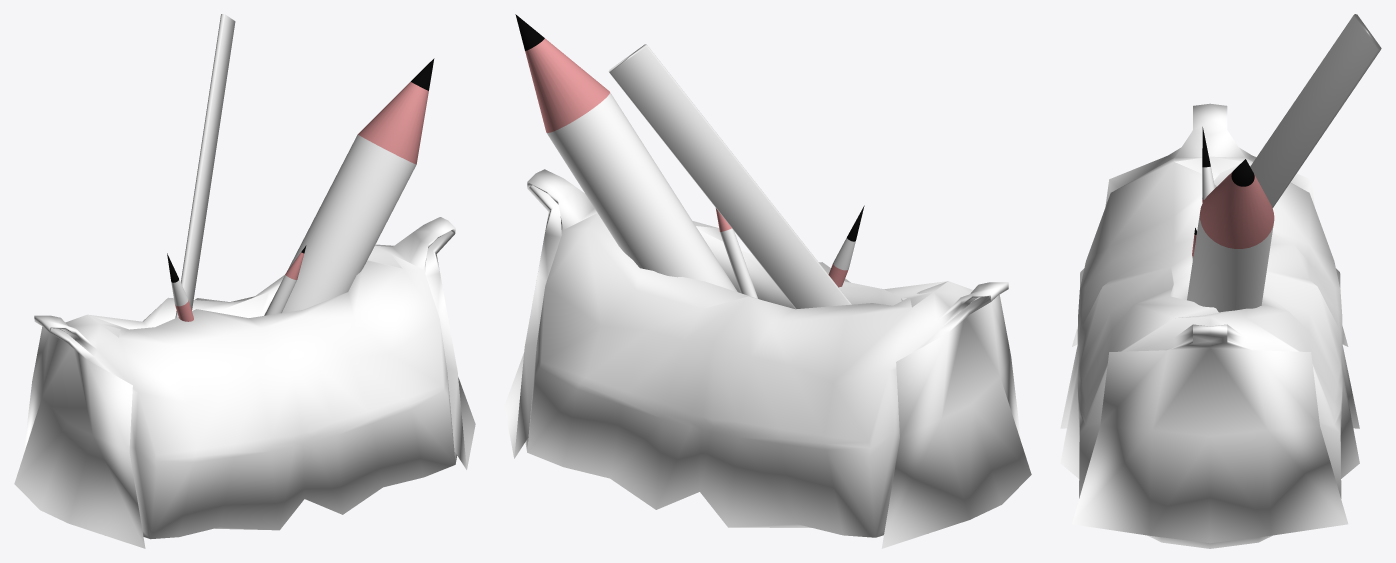
Rendered from storage_1781724176153_model.glb.
The picture shows the model from 3 angles, left to right: view 1: azimuth 30°, elevation 25°; view 2: azimuth 150°, elevation 25°; view 3: azimuth 270°, elevation 25°; orthographic projection. The views are drawn at different scales.
Parts seen in each view (by area): view 1: Cube, Cylinder, Plane, Cylinder.002, Cylinder.001; view 2: Cube, Cylinder, Plane, Cylinder.002, Cylinder.001; view 3: Cube, Cylinder, Plane, Cylinder.001.
Part boxes in pixels (x1,y1,x2,y2): Cube: (14, 217, 475, 548); Cylinder: (264, 58, 434, 315); Plane: (175, 14, 235, 317); Cylinder.002: (265, 245, 306, 315); Cylinder.001: (167, 253, 193, 321); Cube: (504, 169, 1031, 548); Cylinder: (515, 14, 737, 291); Plane: (608, 44, 851, 309); Cylinder.002: (715, 208, 757, 298); Cylinder.001: (828, 205, 864, 287); Cube: (1060, 103, 1359, 548); Cylinder: (1187, 159, 1274, 312); Plane: (1250, 14, 1381, 207); Cylinder.001: (1202, 127, 1214, 202).
Bounding box in the file's own units: 7.49 × 7.27 × 4.5.
